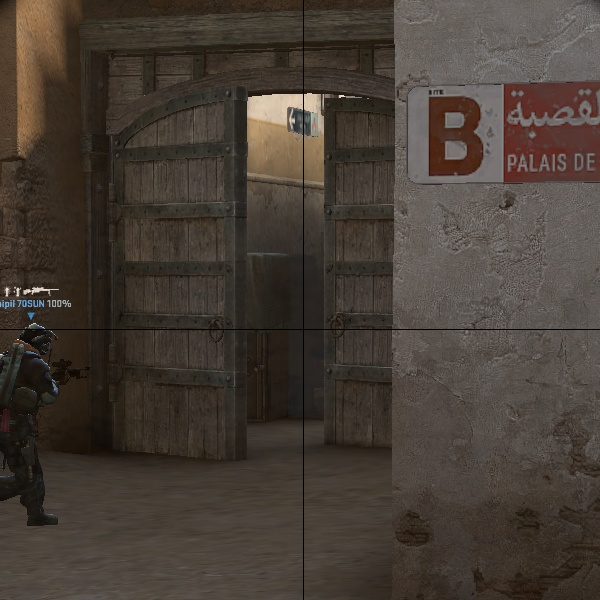ct_body: (2, 317, 71, 537)
ct_head: (15, 319, 62, 367)
